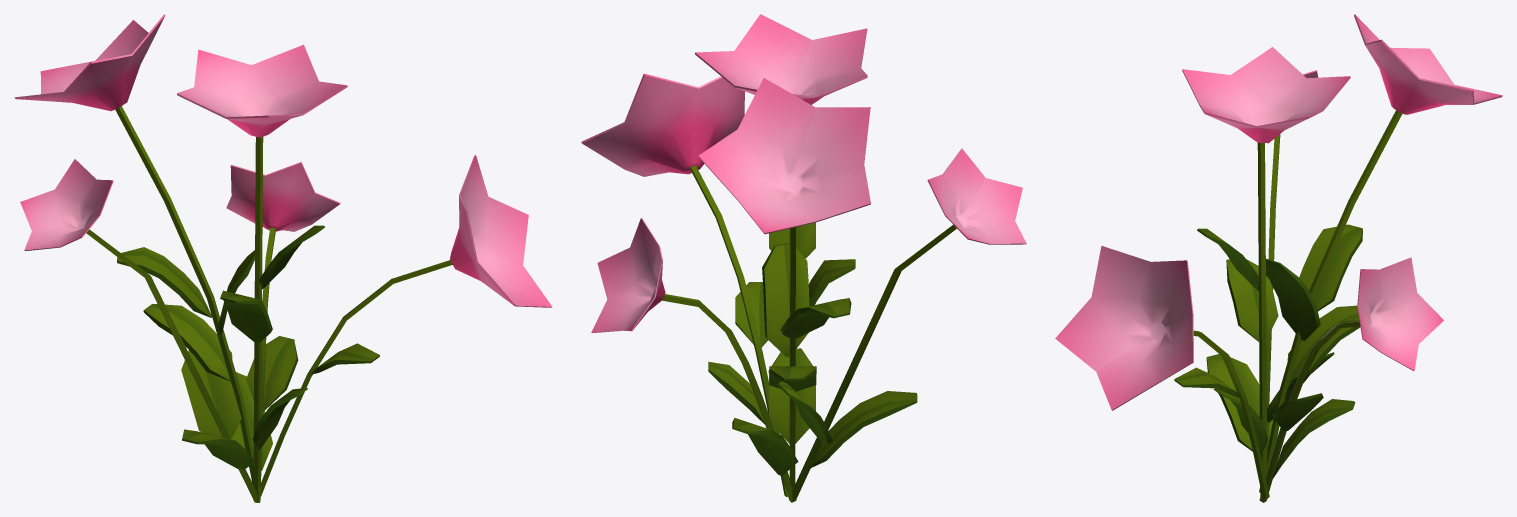
The model's file is flower_b.glb.
3 renders of one model, left to right at view 1: azimuth 30°, elevation 25°; view 2: azimuth 150°, elevation 25°; view 3: azimuth 270°, elevation 25°, orthographic. The views are drawn at different scales.
Parts seen in each view (by area): view 1: flovers11:pPrism1, flovers11:pPrism4, flovers11:pPrism3, flovers11:pPrism5, flovers11:pPrism2, flovers11:sweep1, flovers11:sweep9, flovers11:sweep16, flovers11:sweep5, flovers11:sweep11, flovers11:sweep12, flovers11:sweep2 (+9 smaller); view 2: flovers11:pPrism3, flovers11:pPrism4, flovers11:pPrism1, flovers11:pPrism5, flovers11:pPrism2, flovers11:sweep8, flovers11:sweep15, flovers11:sweep2, flovers11:sweep4, flovers11:sweep10, flovers11:sweep14, flovers11:sweep11 (+8 smaller); view 3: flovers11:pPrism4, flovers11:pPrism1, flovers11:pPrism2, flovers11:pPrism3, flovers11:sweep11, flovers11:sweep1, flovers11:sweep5, flovers11:sweep8, flovers11:sweep13, flovers11:sweep15, flovers11:sweep16, flovers11:sweep14 (+7 smaller).
Boxes of the visible parts, box(x1,y1,x2,y2) form: flovers11:pPrism1: box(177, 44, 347, 137); flovers11:pPrism4: box(450, 155, 552, 307); flovers11:pPrism3: box(14, 14, 165, 111); flovers11:pPrism5: box(20, 159, 113, 250); flovers11:pPrism2: box(226, 162, 340, 231); flovers11:sweep1: box(115, 106, 261, 494); flovers11:sweep9: box(181, 350, 241, 438); flovers11:sweep16: box(143, 304, 232, 381); flovers11:sweep5: box(253, 137, 263, 501); flovers11:sweep11: box(117, 247, 211, 317); flovers11:sweep12: box(246, 336, 298, 411); flovers11:sweep2: box(86, 229, 260, 502); flovers11:pPrism3: box(698, 78, 870, 234); flovers11:pPrism4: box(581, 73, 744, 176); flovers11:pPrism1: box(695, 14, 867, 104); flovers11:pPrism5: box(927, 148, 1026, 244); flovers11:pPrism2: box(591, 218, 665, 332); flovers11:sweep8: box(762, 243, 809, 356); flovers11:sweep15: box(807, 391, 917, 469); flovers11:sweep2: box(789, 225, 956, 501); flovers11:sweep4: box(690, 165, 789, 496); flovers11:sweep10: box(768, 348, 815, 443); flovers11:sweep14: box(732, 418, 798, 475); flovers11:sweep11: box(780, 298, 851, 339); flovers11:pPrism4: box(1055, 246, 1193, 410); flovers11:pPrism1: box(1182, 47, 1350, 143); flovers11:pPrism2: box(1357, 257, 1443, 370); flovers11:pPrism3: box(1354, 14, 1502, 114); flovers11:sweep11: box(1299, 224, 1362, 311); flovers11:sweep1: box(1259, 110, 1402, 493); flovers11:sweep5: box(1257, 142, 1267, 499); flovers11:sweep8: box(1266, 258, 1320, 340); flovers11:sweep13: box(1226, 259, 1278, 342); flovers11:sweep15: box(1206, 354, 1273, 451); flovers11:sweep16: box(1287, 305, 1360, 381); flovers11:sweep14: box(1272, 399, 1355, 479).
Size of the model in its own units: 0.1427 by 0.1333 by 0.1213.
Materials: 3 (3 with a texture image).
